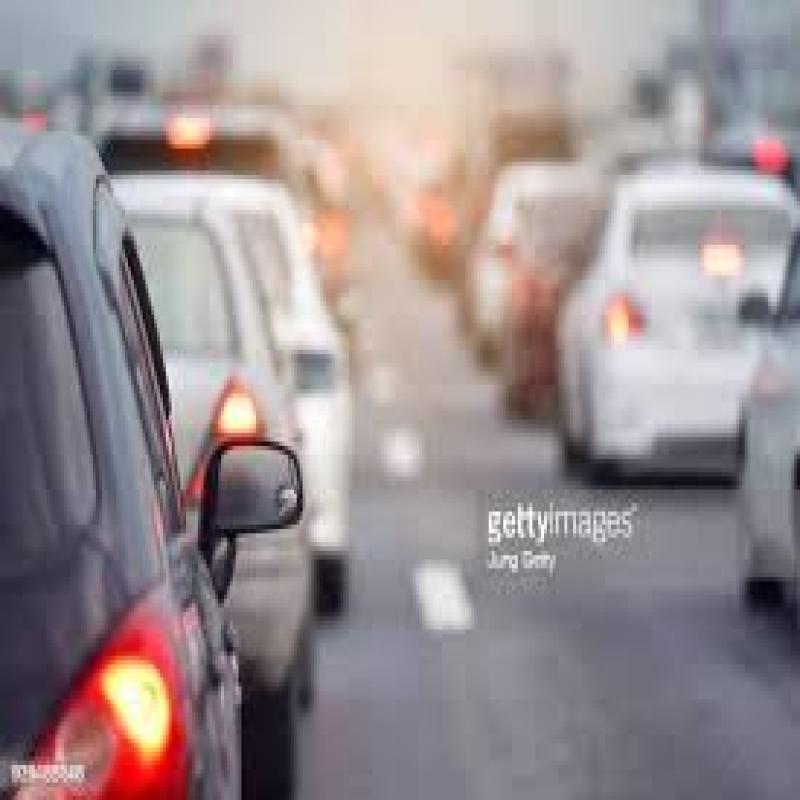car: (0, 75, 259, 800)
